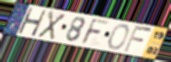8: (65, 17, 85, 43)
F: (122, 24, 153, 54), (79, 18, 112, 46)
H: (16, 7, 47, 37)
O: (106, 24, 130, 51)
X: (36, 10, 67, 41)
